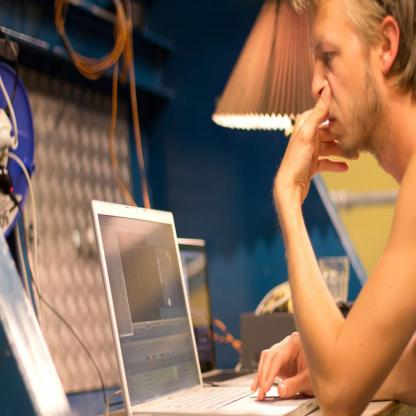board: (90, 198, 214, 404), (176, 237, 259, 383)
